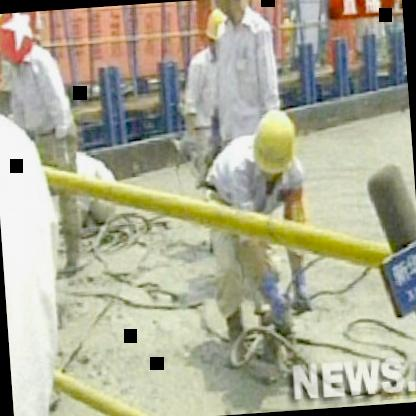helmet: (247, 105, 300, 186), (204, 0, 249, 21)
